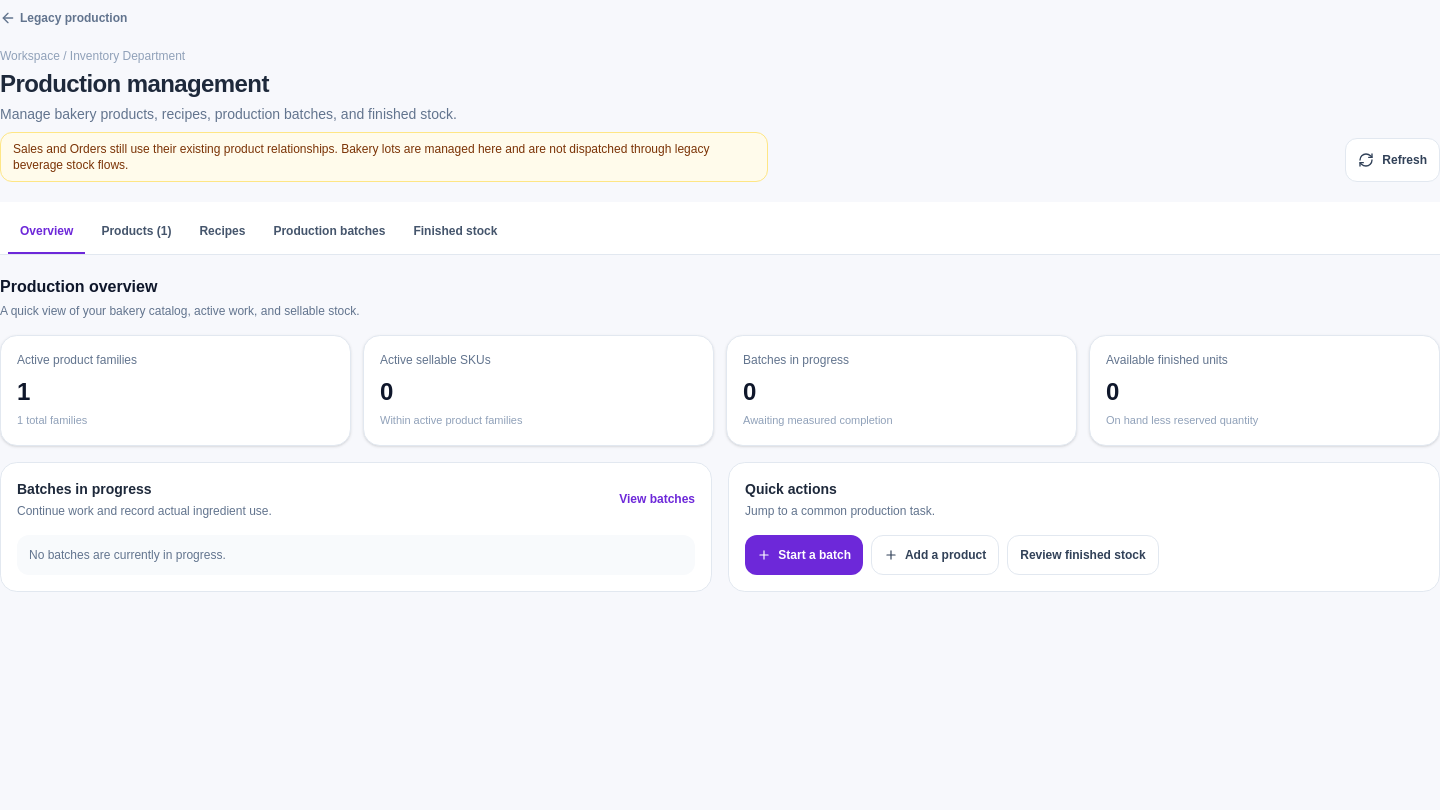
Test: bakery product profile image › uploads and attaches one primary image, then exposes pending old-image cleanup
Later steps or results of the test are not shown.
Click the tab "Products (1)". click: (136, 232)
box: [89,210,183,254]
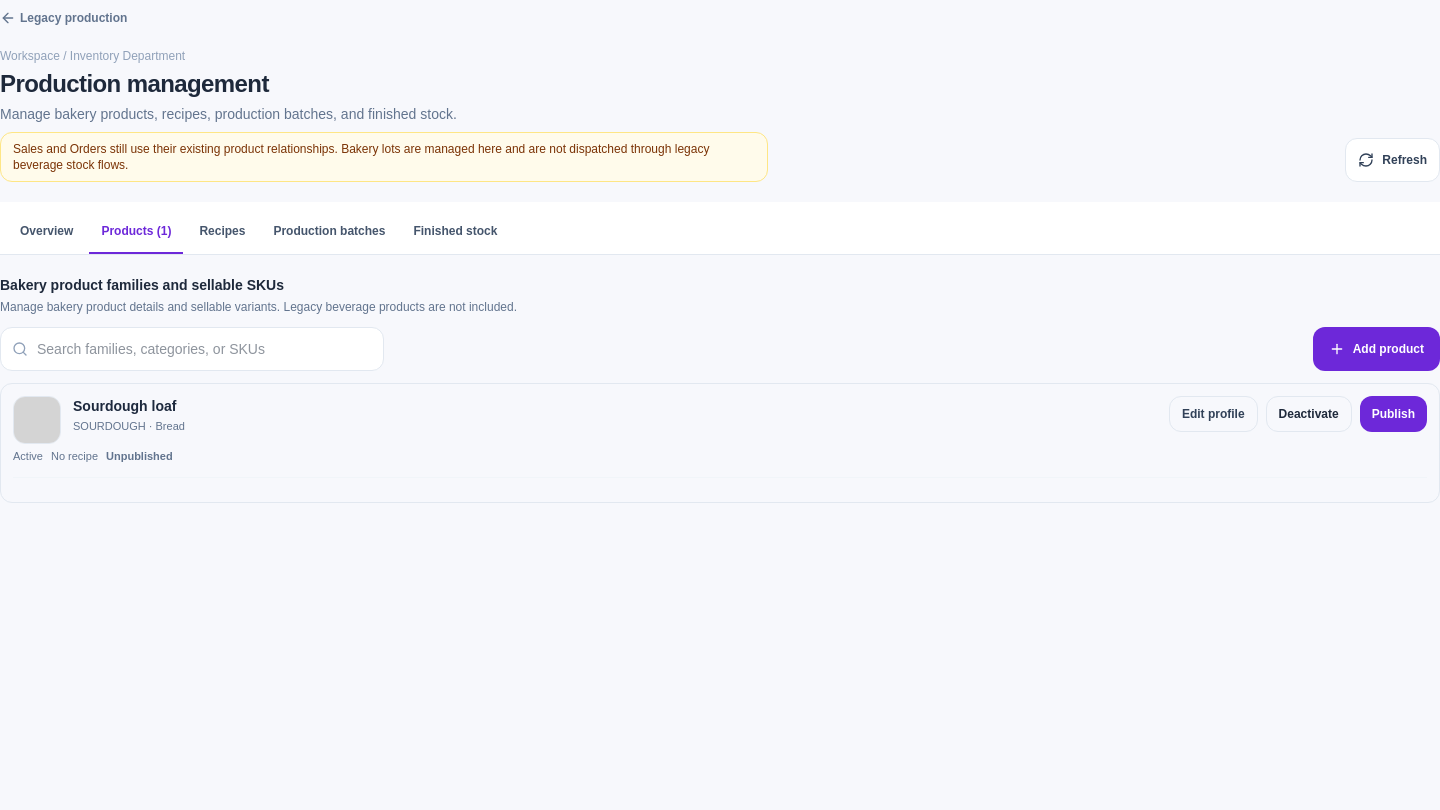
Click the button "Edit profile". click: (1213, 414)
box: [1169,396,1258,432]
(page scrolled)
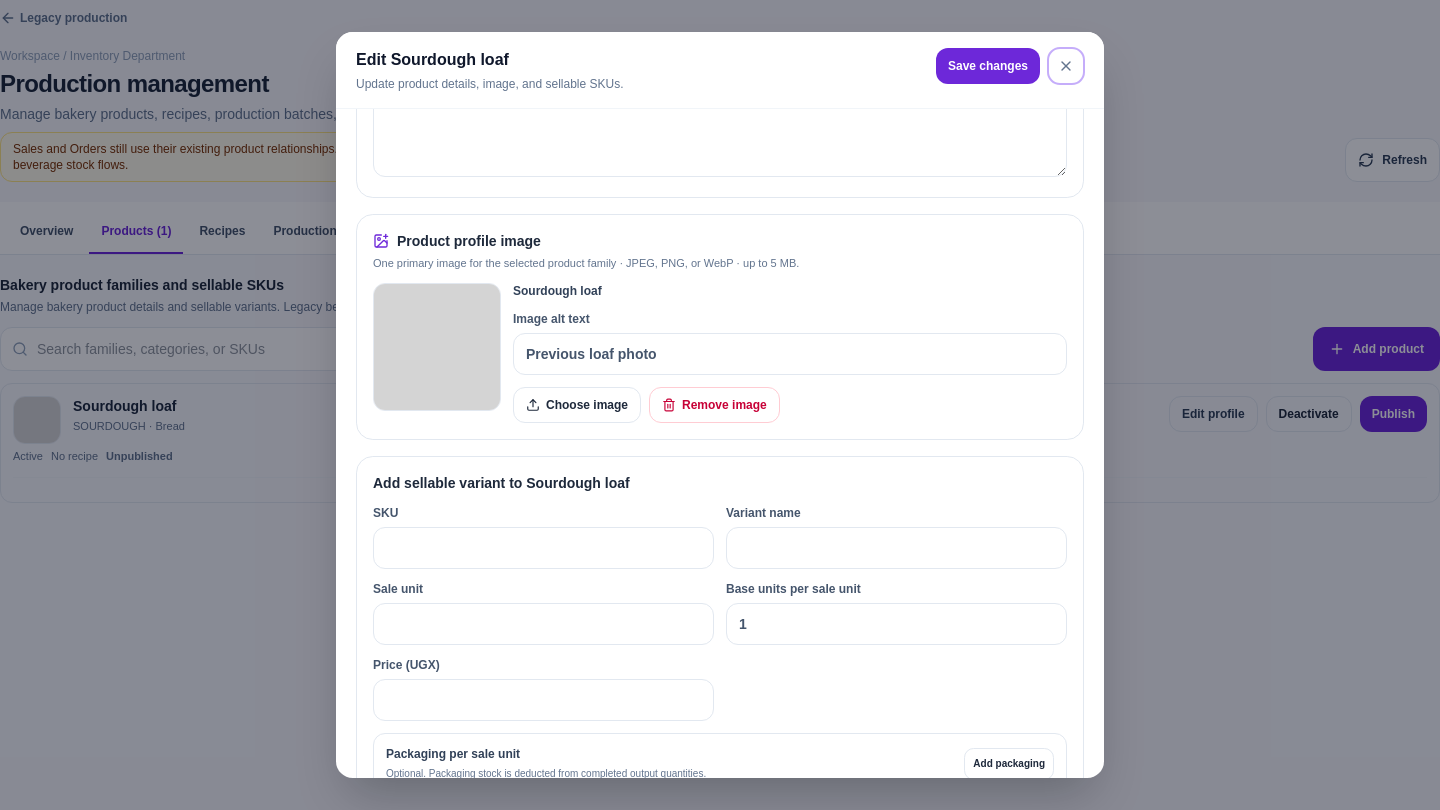
Expected: the dialog "Edit" is shown, [336,32,1104,778]
Expected: the heading "Product profile image" is shown, [373,233,541,249]
Expected: the button "Choose image" is shown, [513,387,641,423]
